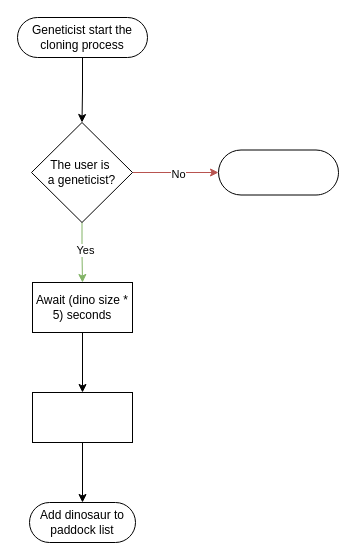
Image size: 356x560. Some labels were removed from this diagram. Each missing label, with the centre of its shape:
Show Release button: [82,417]
Throw authentication error: [278,172]
